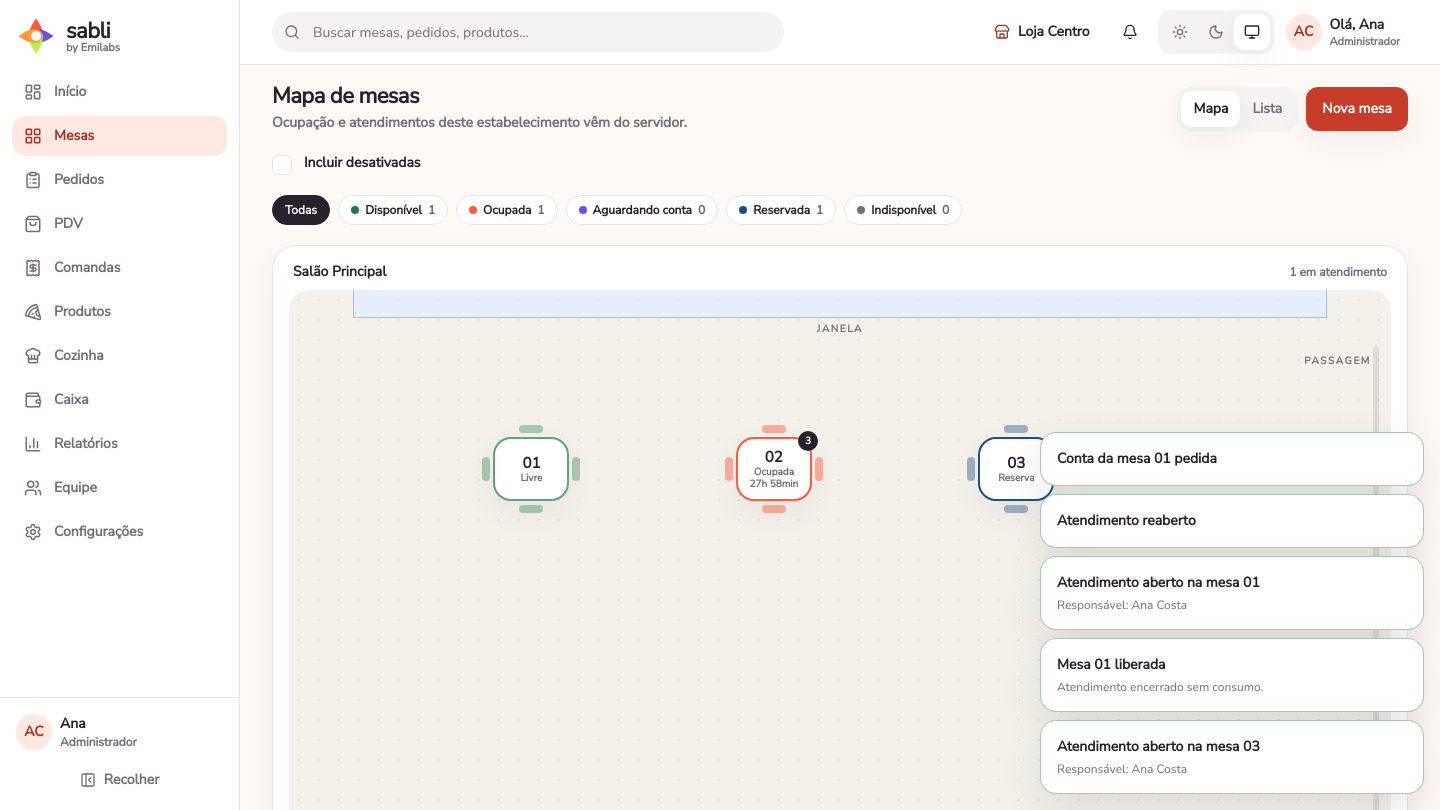
Test: mesas API › mostra mesa ocupada, conflito 409 e atualiza a versão
The image size is (1440, 810).
Click the button with aria-label "mesa 02, ocupada".
click(774, 469)  # box [725, 425, 823, 513]
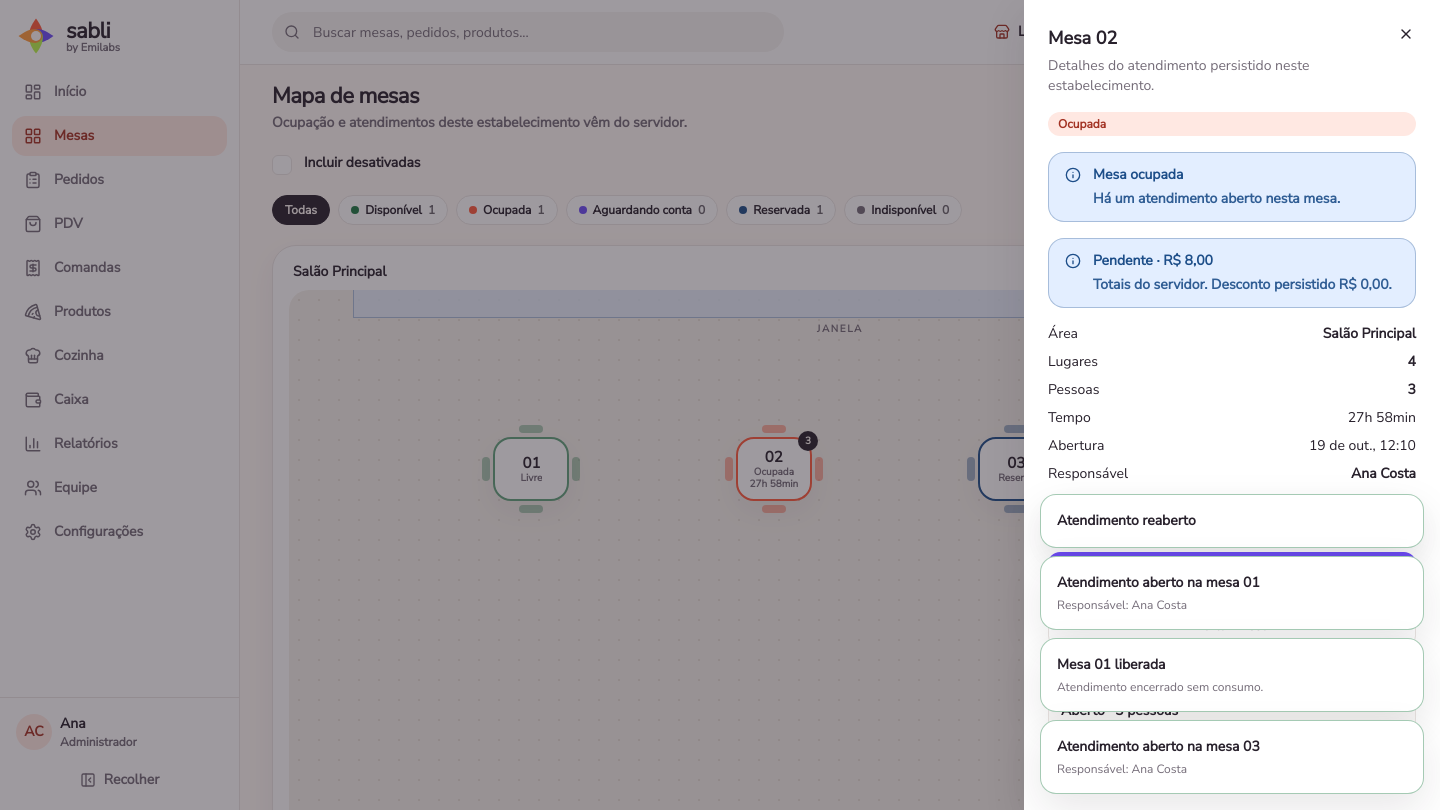
Expected: the text "Há um atendimento aberto nesta mesa." is shown, [1093, 189, 1340, 209]
Click the button "Editar mesa".
click(1232, 626)  # box [1048, 604, 1416, 648]
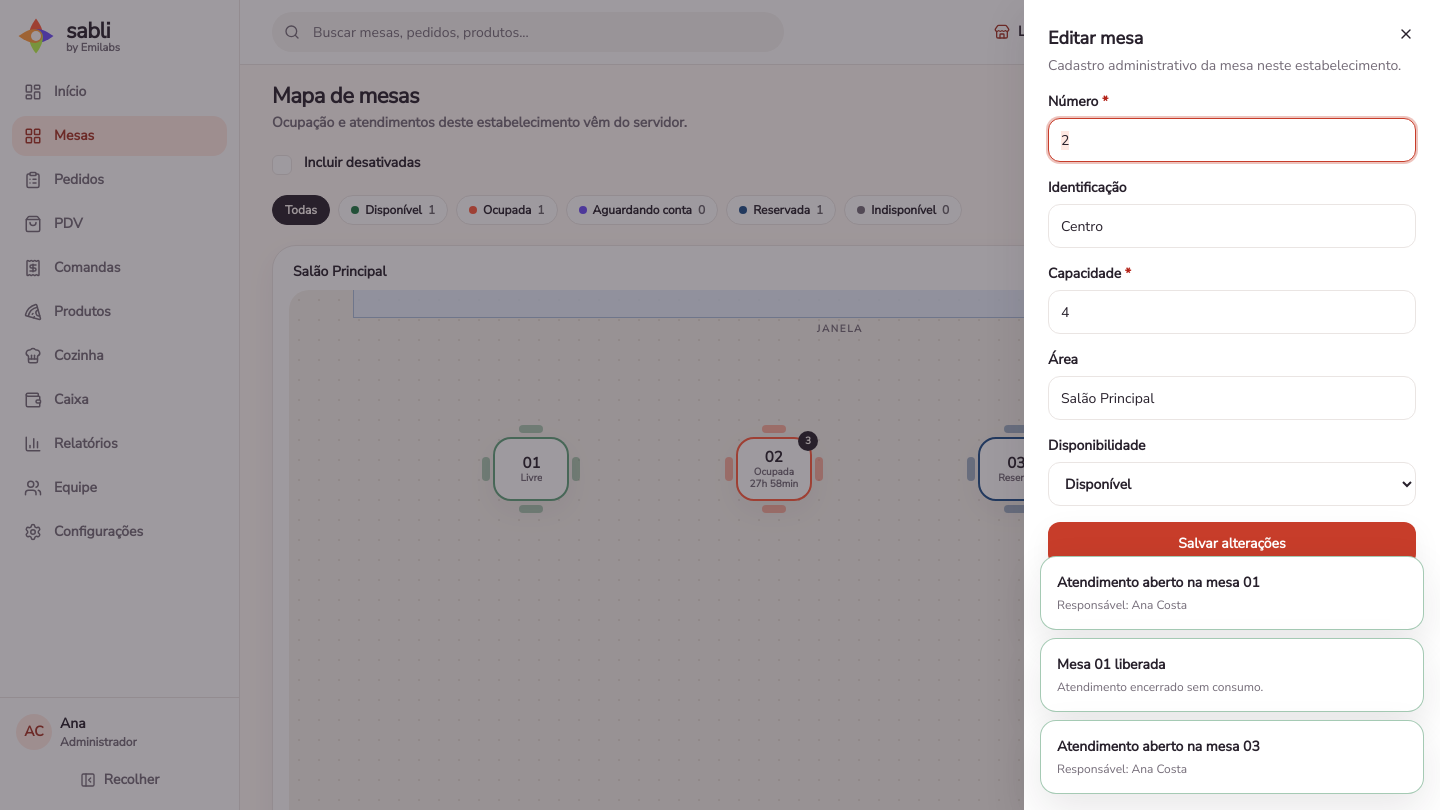
Click the button "Salvar alterações".
click(1232, 544)  # box [1048, 522, 1416, 566]
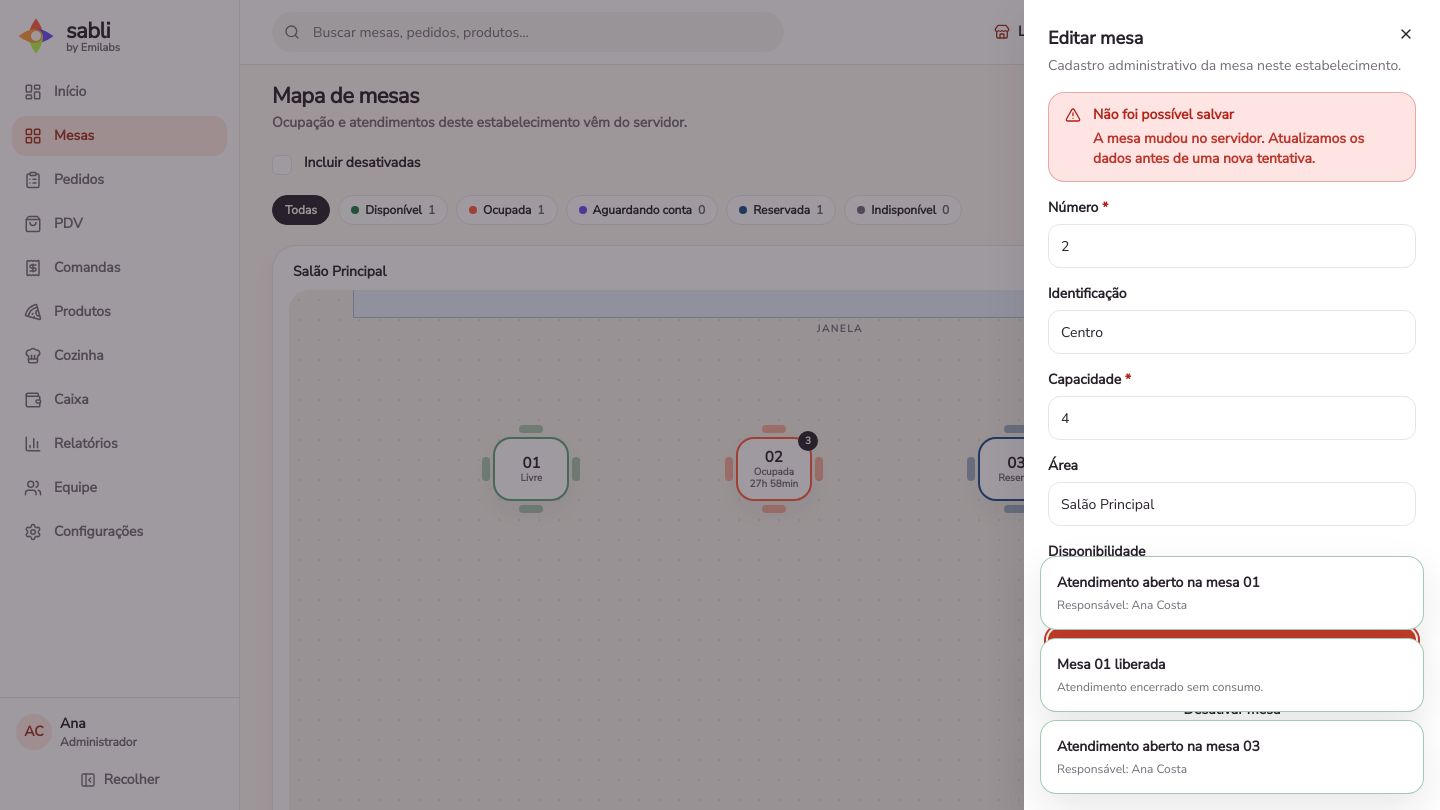
Expected: the text "A mesa mudou no servidor" is shown, [1093, 129, 1364, 168]
